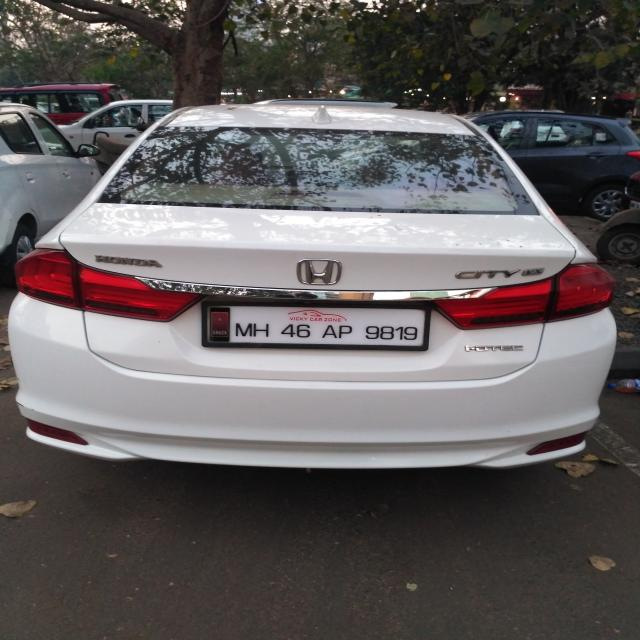Number-Plate: (208, 306, 424, 345)
